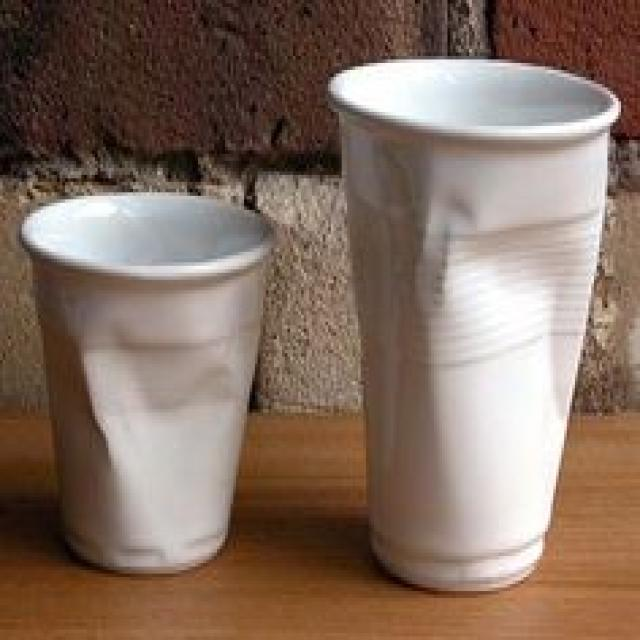bottle: (329, 61, 620, 591), (21, 193, 271, 571)
